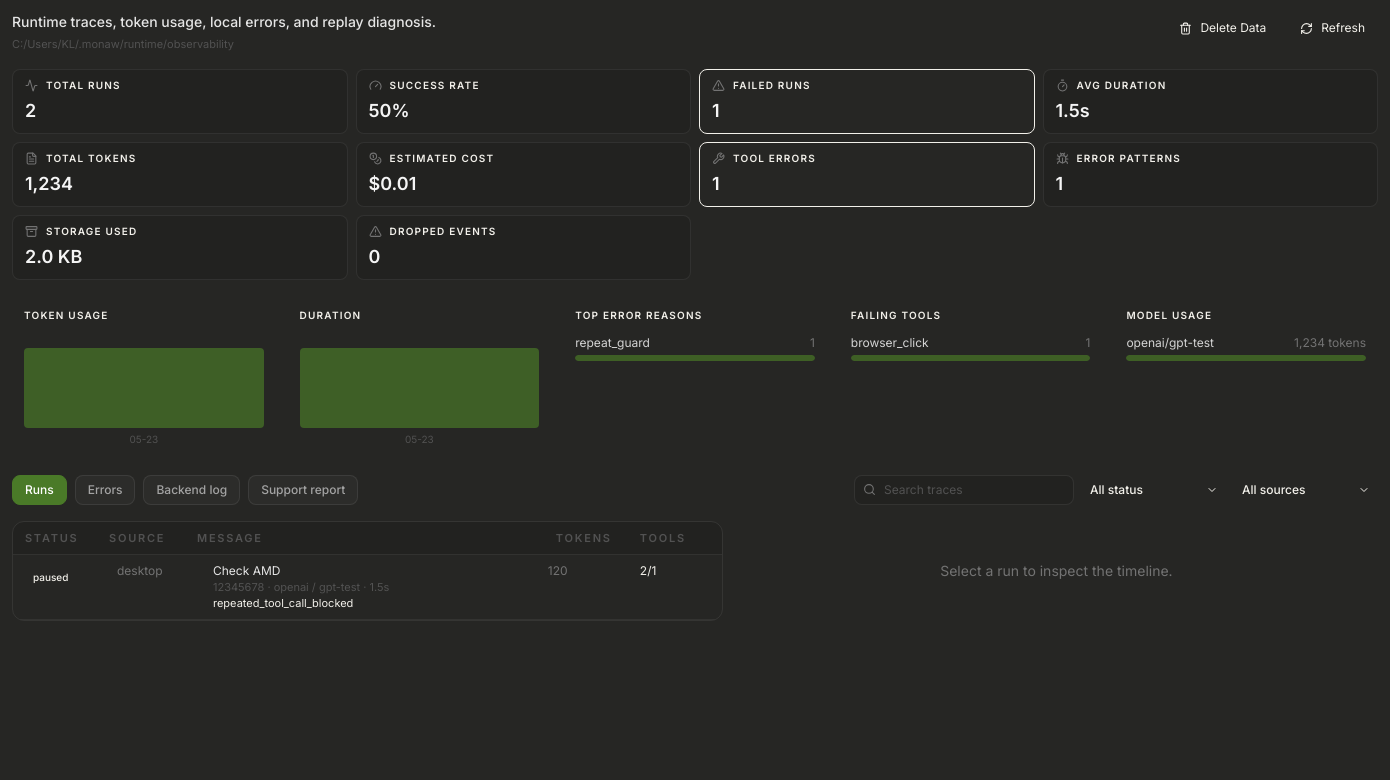
it: ObservabilityPanel › renders summary metrics and opens run detail
Expected: the text "Total runs" is shown, [46, 78, 121, 92]
Expected: the text "1,234" is shown, [25, 172, 73, 194]
Click the text "Check AMD" at x=247, y=570, box [213, 563, 280, 578]
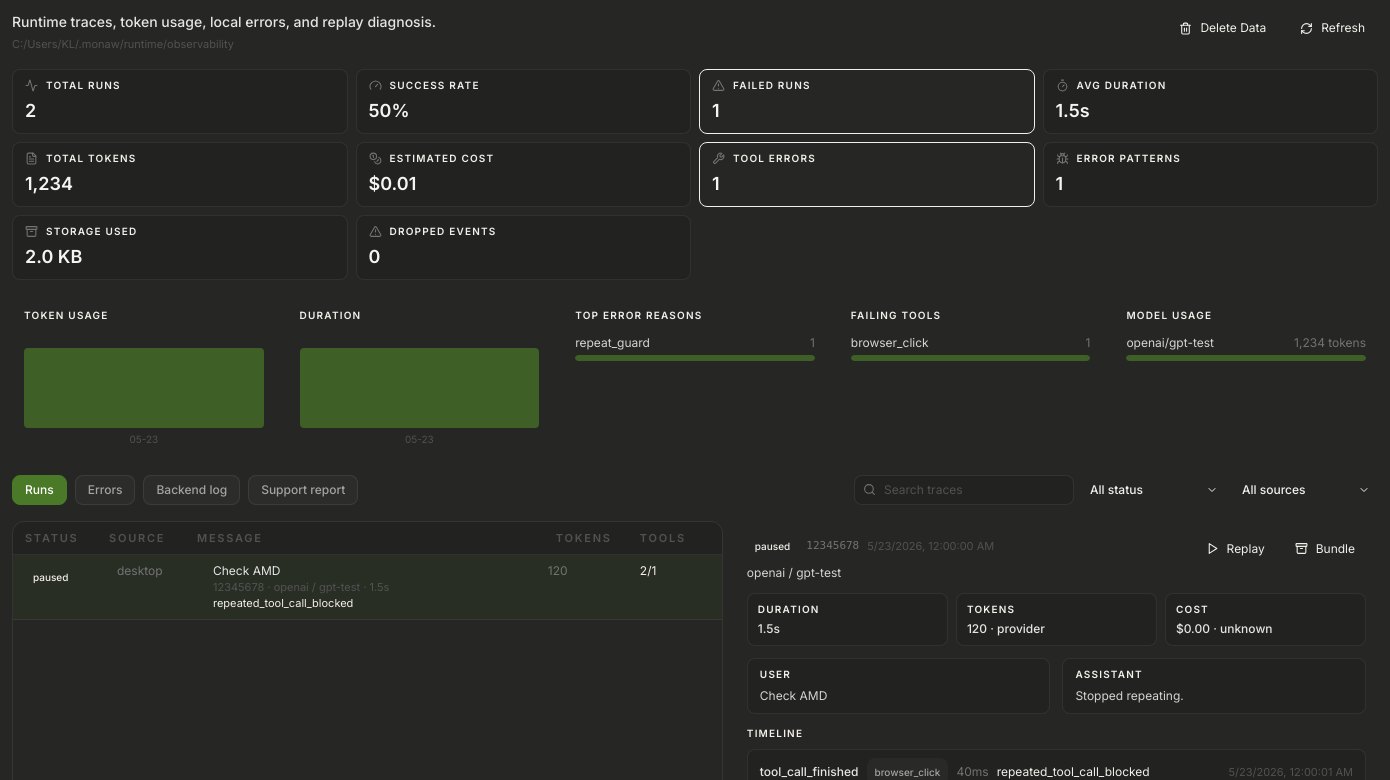
Expected: the text "Timeline" is shown, [747, 727, 803, 739]
Now the text "tool_call_finished" is shown, box [760, 764, 858, 779]
